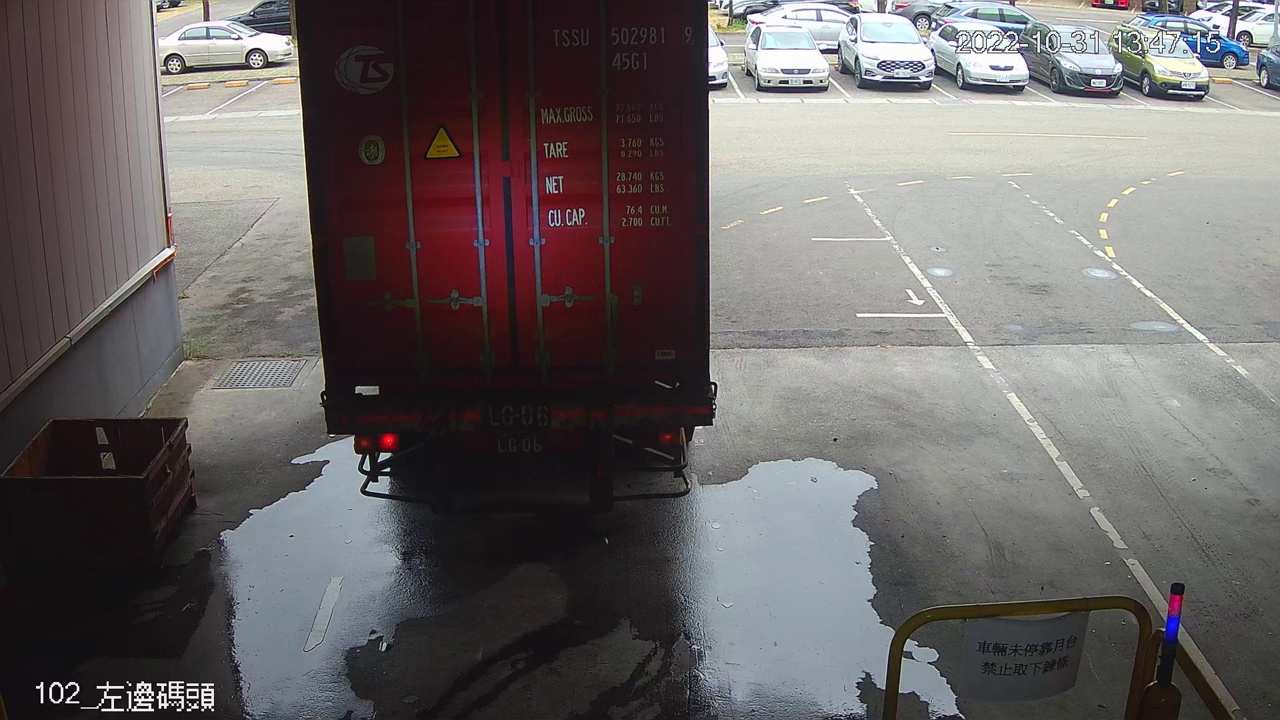container: (546, 19, 702, 77)
